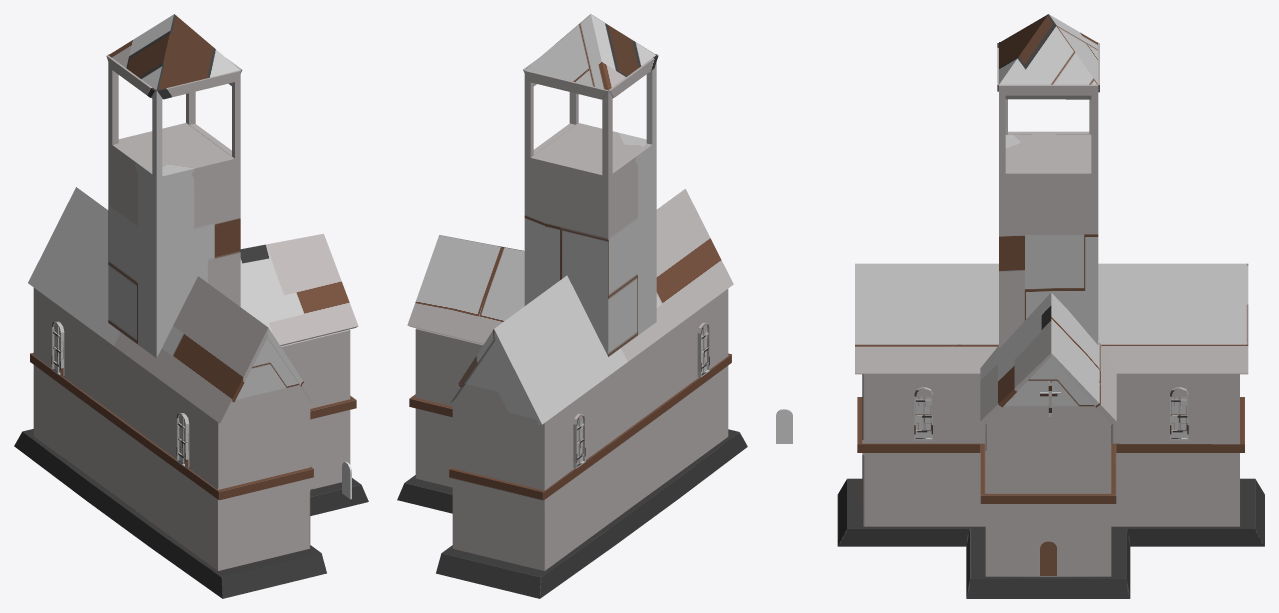
The model's file is Igreja.fbx.
3 renders of one model, left to right at view 1: azimuth 30°, elevation 25°; view 2: azimuth 150°, elevation 25°; view 3: azimuth 270°, elevation 25°, orthographic. The views are drawn at different scales.
Visible parts, largest first — view 1: Cube, Cube.001, Cube.002, Cone, Plane.002, Plane.003; view 2: Cube, Cube.001, Cube.002, Cone, Plane.003, Plane.002; view 3: Cube, Cube.001, Cube.002, Cone, Plane, Plane.001.
Part boxes in pixels (bbox=[...]): Cube: bbox=[14, 288, 368, 598]; Cube.001: bbox=[28, 187, 358, 424]; Cube.002: bbox=[106, 54, 242, 357]; Cone: bbox=[108, 14, 240, 90]; Plane.002: bbox=[176, 413, 189, 467]; Plane.003: bbox=[51, 321, 64, 376]; Cube: bbox=[397, 289, 747, 598]; Cube.001: bbox=[407, 189, 733, 425]; Cube.002: bbox=[523, 54, 658, 356]; Cone: bbox=[525, 14, 655, 90]; Plane.003: bbox=[573, 413, 585, 468]; Plane.002: bbox=[697, 322, 709, 377]; Cube: bbox=[837, 374, 1264, 598]; Cube.001: bbox=[855, 263, 1248, 424]; Cube.002: bbox=[997, 42, 1099, 348]; Cone: bbox=[999, 14, 1097, 84]; Plane: bbox=[914, 387, 932, 440]; Plane.001: bbox=[1170, 387, 1188, 440].
Bounding box in the file's own units: 456 × 1027 × 896.
Materials: 6 (6 with a texture image).
